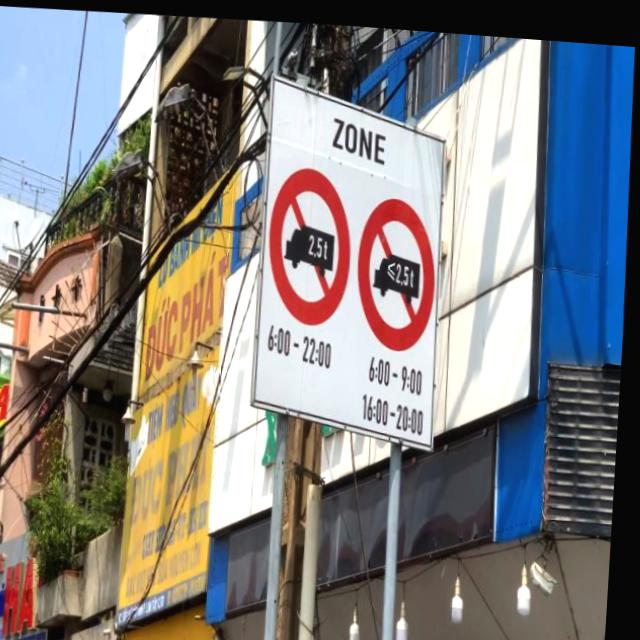Cam xe tai tren 2_5: (265, 160, 359, 324), (354, 188, 443, 347)
